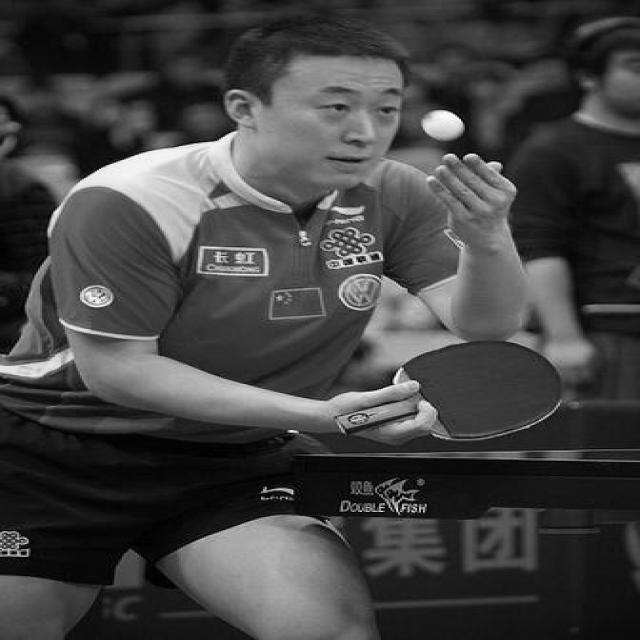ping-pong-ball: (422, 110, 466, 140)
